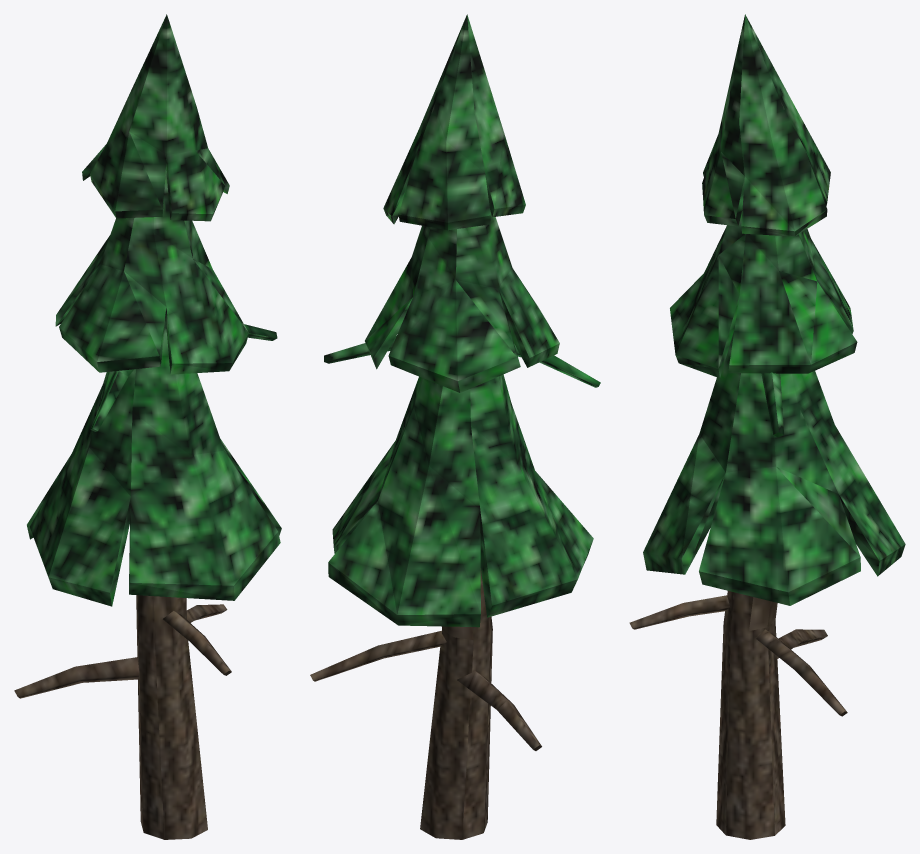
The model's file is Tree2.fbx.
The picture shows the model from 3 angles, left to right: view 1: azimuth 30°, elevation 25°; view 2: azimuth 150°, elevation 25°; view 3: azimuth 270°, elevation 25°; orthographic projection.
Visible parts, largest first — view 1: trunk_02; view 2: trunk_02; view 3: trunk_02.
Part boxes in pixels (left/top/right/bottom): trunk_02: left=14, top=14, right=281, bottom=839; trunk_02: left=310, top=14, right=600, bottom=839; trunk_02: left=629, top=14, right=905, bottom=839.
Size of the model in its own units: 1.91 by 6.19 by 1.92.
